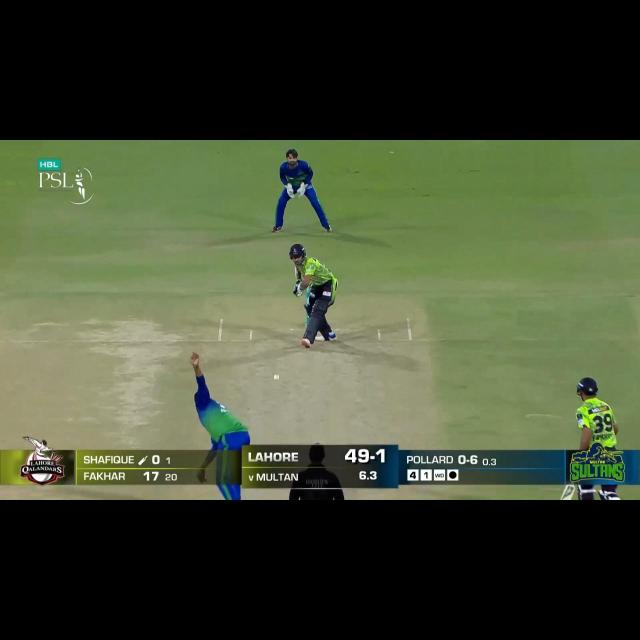bat: (559, 483, 574, 501), (294, 266, 305, 284)
toe: (294, 265, 300, 273)
